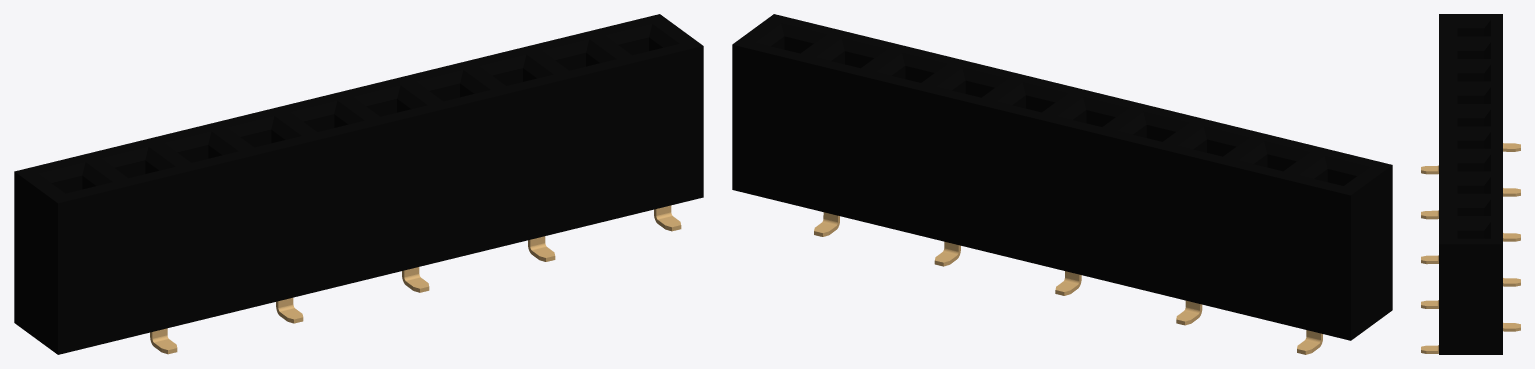
Rendered from 1X10_2MM_SMD.dae.
The picture shows the model from 3 angles, left to right: view 1: azimuth 30°, elevation 25°; view 2: azimuth 150°, elevation 25°; view 3: azimuth 270°, elevation 25°; orthographic projection. The views are drawn at different scales.
Parts seen in each view (by area): view 1: _X10_2MM_SMD; view 2: _X10_2MM_SMD; view 3: _X10_2MM_SMD.
Boxes of the visible parts, x1,y1,x2,y2 form: _X10_2MM_SMD: [14, 14, 703, 354]; _X10_2MM_SMD: [732, 14, 1392, 354]; _X10_2MM_SMD: [1421, 14, 1520, 354].
Size of the model in its own units: 20.5 by 3.76 by 5.03.
